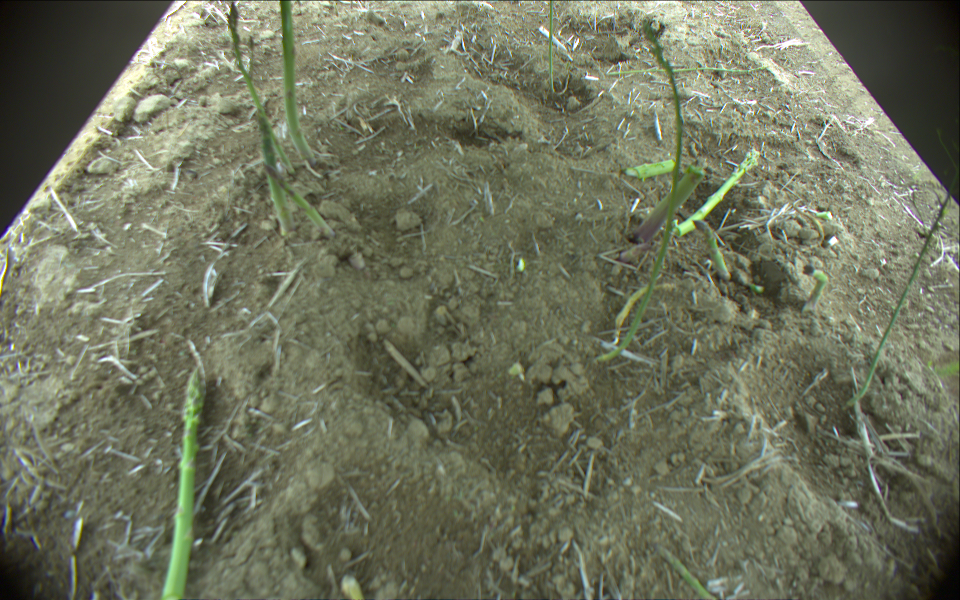aspa: (597, 19, 683, 365), (850, 189, 952, 404), (217, 3, 296, 234), (160, 367, 204, 600), (676, 151, 757, 238), (623, 164, 707, 245), (278, 1, 320, 163), (238, 64, 296, 174), (265, 163, 336, 237), (605, 59, 768, 77), (693, 219, 730, 281), (547, 1, 559, 93), (805, 268, 831, 309), (623, 157, 678, 176)
